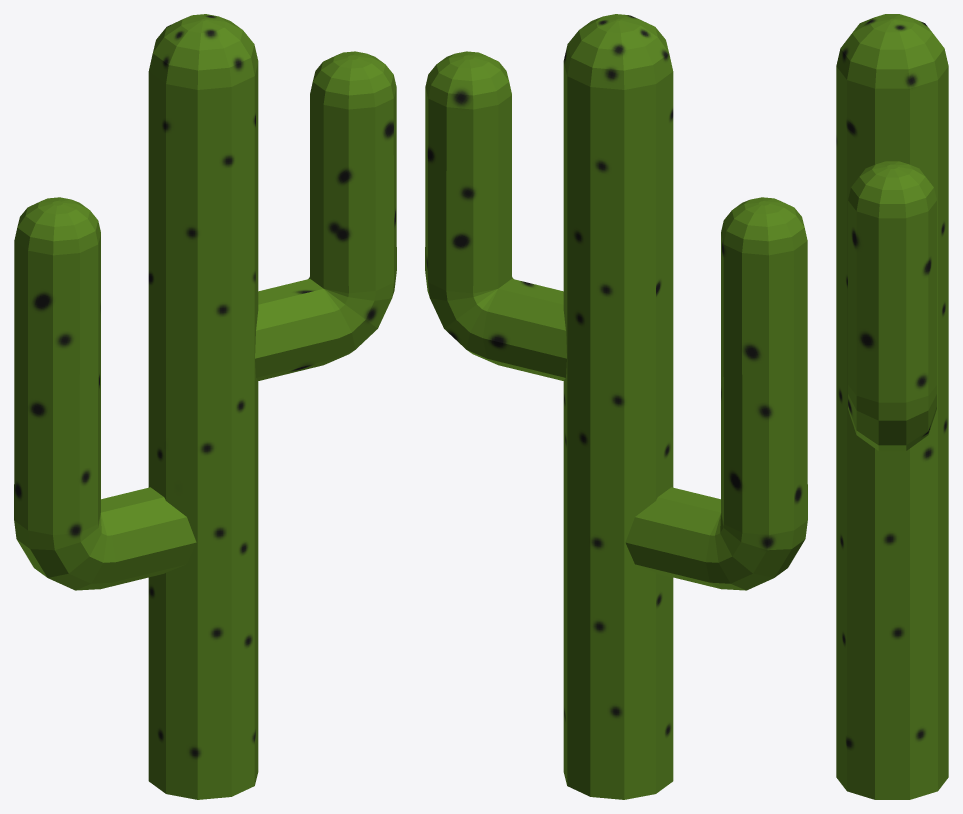
The model's file is Cactus.fbx.
3 views of the same model, side by side, from view 1: azimuth 30°, elevation 25°; view 2: azimuth 150°, elevation 25°; view 3: azimuth 270°, elevation 25° (orthographic).
Parts seen in each view (by area): view 1: Cylinder.004, Cylinder, Cylinder.003, Cylinder.001, Cylinder.002, Cylinder.005, Cylinder.006; view 2: Cylinder.004, Cylinder, Cylinder.003, Cylinder.001, Cylinder.005, Cylinder.002, Cylinder.006; view 3: Cylinder.001, Cylinder.004, Cylinder, Cylinder.002, Cylinder.003.
Boxes of the visible parts, left/top/right/bottom form: Cylinder.004: left=148, top=14, right=258, bottom=373; Cylinder: left=17, top=379, right=258, bottom=664; Cylinder.003: left=148, top=196, right=396, bottom=408; Cylinder.001: left=148, top=585, right=258, bottom=799; Cylinder.002: left=310, top=51, right=396, bottom=247; Cylinder.005: left=14, top=197, right=100, bottom=387; Cylinder.006: left=14, top=354, right=100, bottom=550; Cylinder.004: left=563, top=14, right=673, bottom=371; Cylinder: left=563, top=381, right=804, bottom=685; Cylinder.003: left=425, top=192, right=673, bottom=415; Cylinder.001: left=563, top=573, right=673, bottom=799; Cylinder.005: left=721, top=197, right=807, bottom=389; Cylinder.002: left=425, top=51, right=511, bottom=242; Cylinder.006: left=721, top=356, right=807, bottom=550; Cylinder.001: left=836, top=599, right=948, bottom=799; Cylinder.004: left=836, top=14, right=948, bottom=330; Cylinder: left=836, top=389, right=948, bottom=624; Cylinder.002: left=848, top=161, right=936, bottom=326; Cylinder.003: left=836, top=312, right=948, bottom=451.
Size of the model in its own units: 760 by 1488 by 200.
